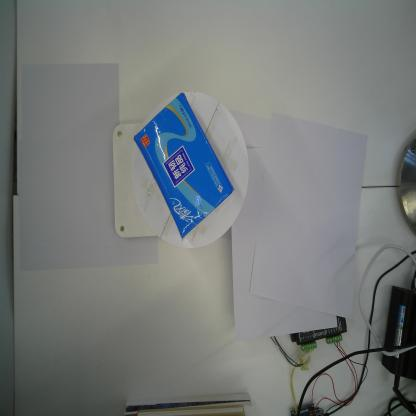Tissue: (134, 91, 235, 243)
